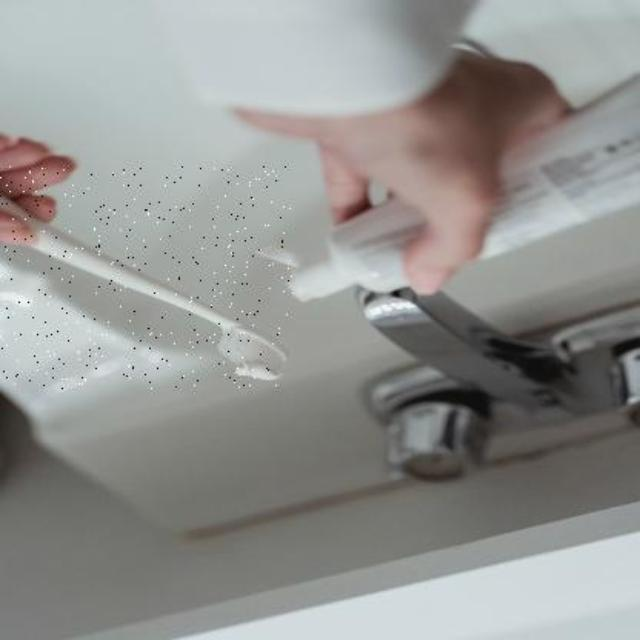toothbrush: (0, 166, 294, 390)
